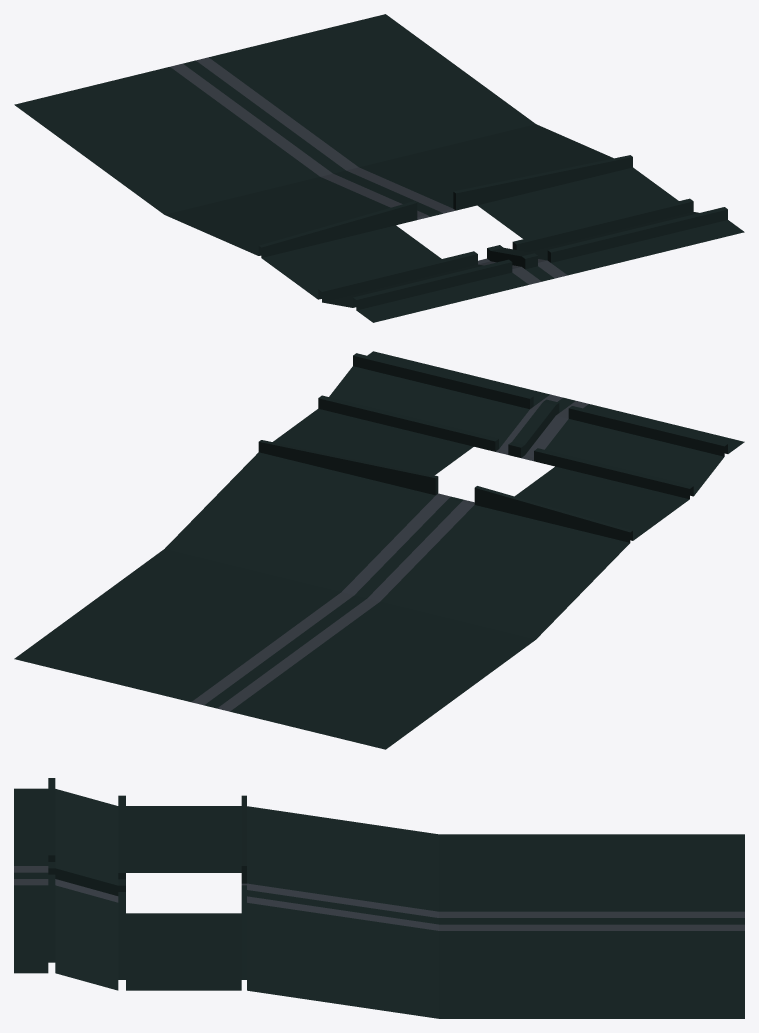
File: Arena2_BackTerrain.fbx
The picture shows the model from 3 angles, top to bottom: view 1: azimuth 30°, elevation 25°; view 2: azimuth 150°, elevation 25°; view 3: azimuth 270°, elevation 25°; orthographic projection.
Visible parts, largest first — view 1: World; view 2: World; view 3: World.
Boxes of the visible parts, x1,y1,x2,y2 form: World: [14, 14, 744, 322]; World: [14, 351, 744, 749]; World: [14, 778, 744, 1018].
Size of the model in its own units: 58043 by 8249 by 97156.
